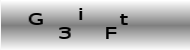3: (57, 26, 71, 39)
F: (104, 26, 117, 39)
G: (28, 12, 43, 25)
i: (77, 7, 83, 21)
t: (119, 13, 129, 26)
